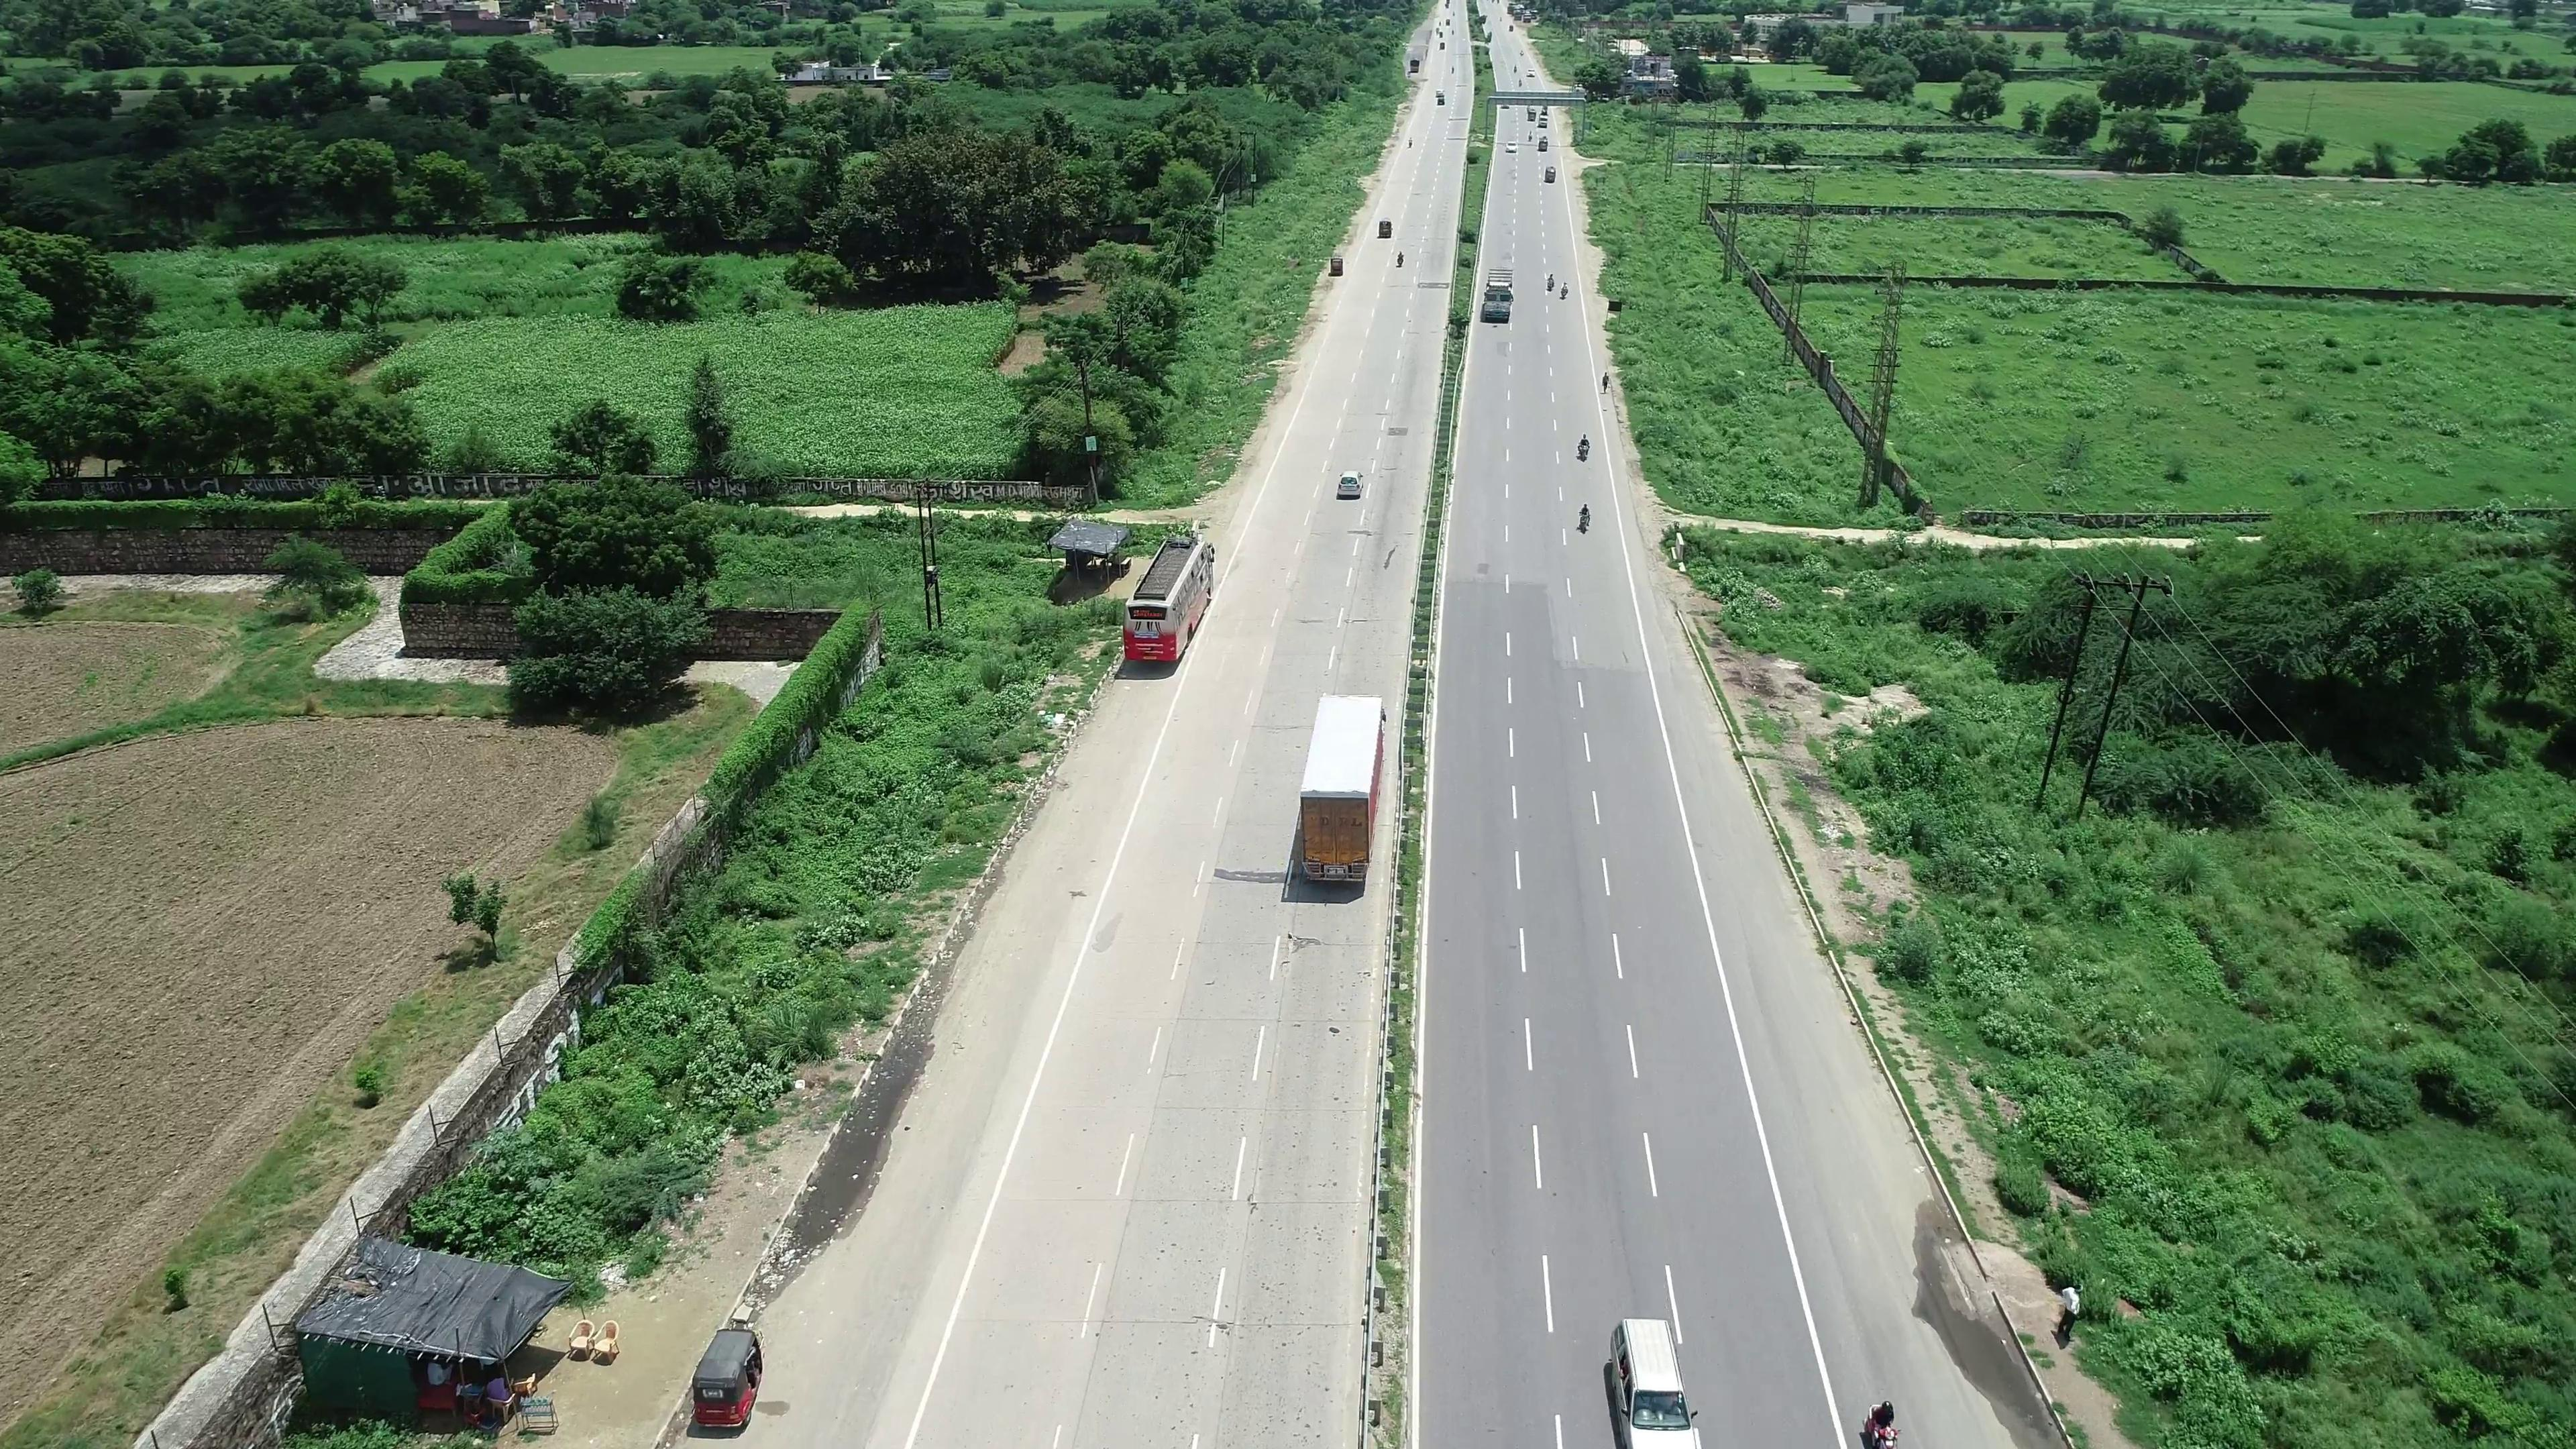Waterlogging: (791, 1092, 909, 1254)
